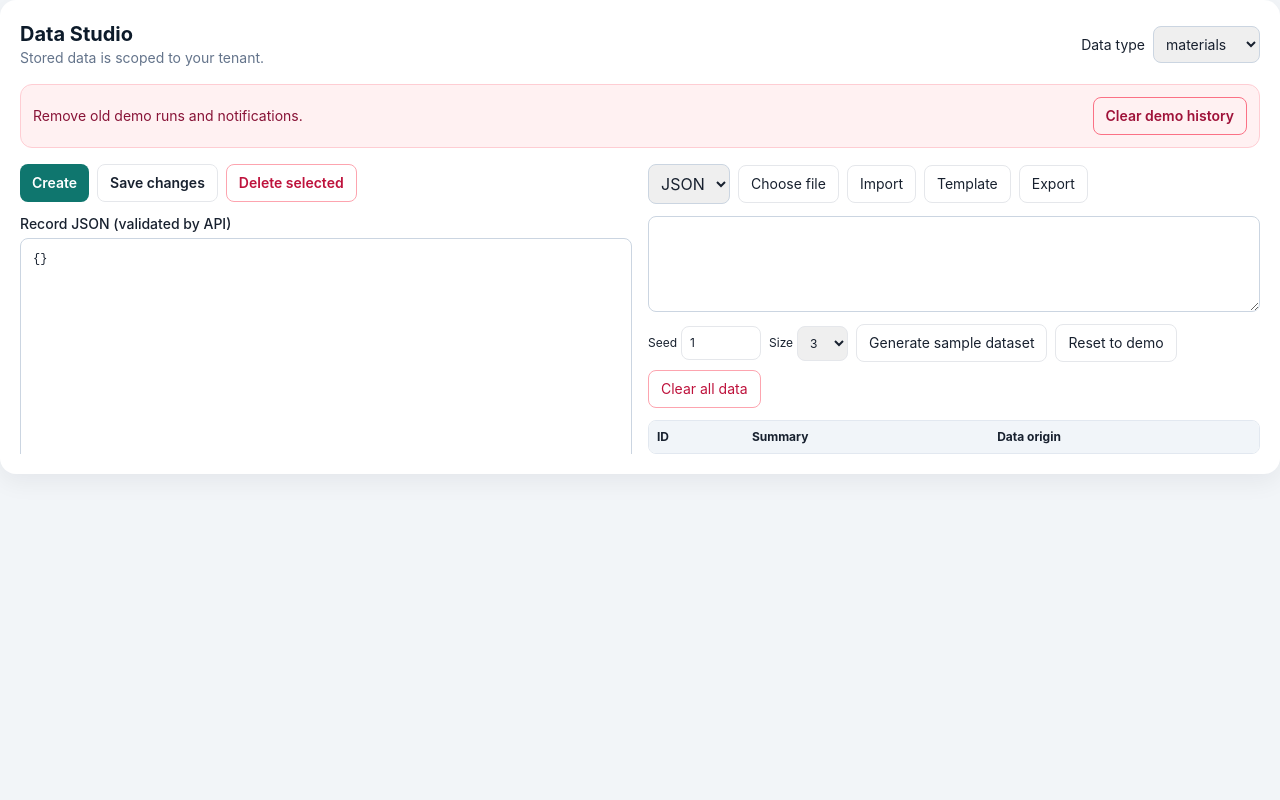
tenant Data Studio › requires confirmation before clearing the tenant's run history
What coordinates should you click on to do the following:
click the button "Clear demo history"
I would click on:
 (1170, 116)
Its box is [1092,97,1247,135].
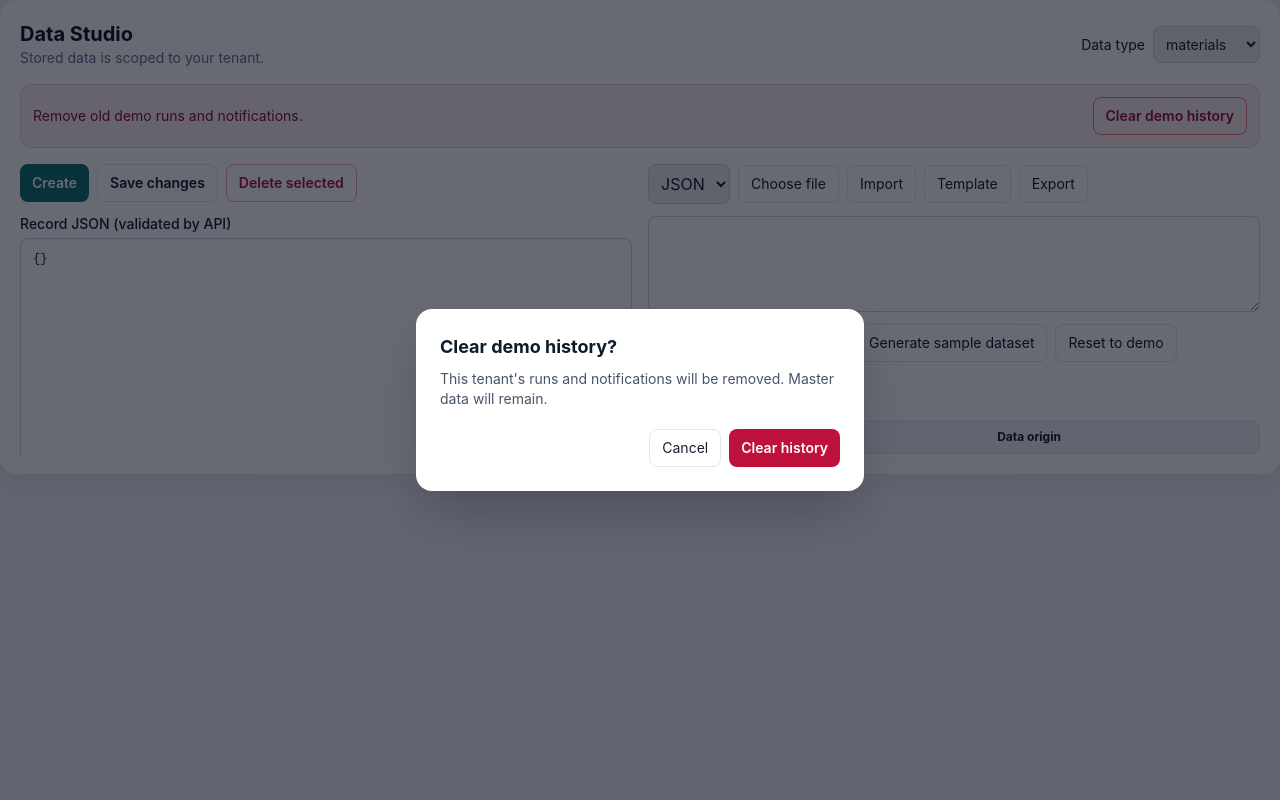
Check: the dialog is shown, box [416,309,864,491]
What coordinates should you click on to do the following:
click the button "Clear history"
I would click on:
 (785, 448)
Its box is [729,429,840,467].
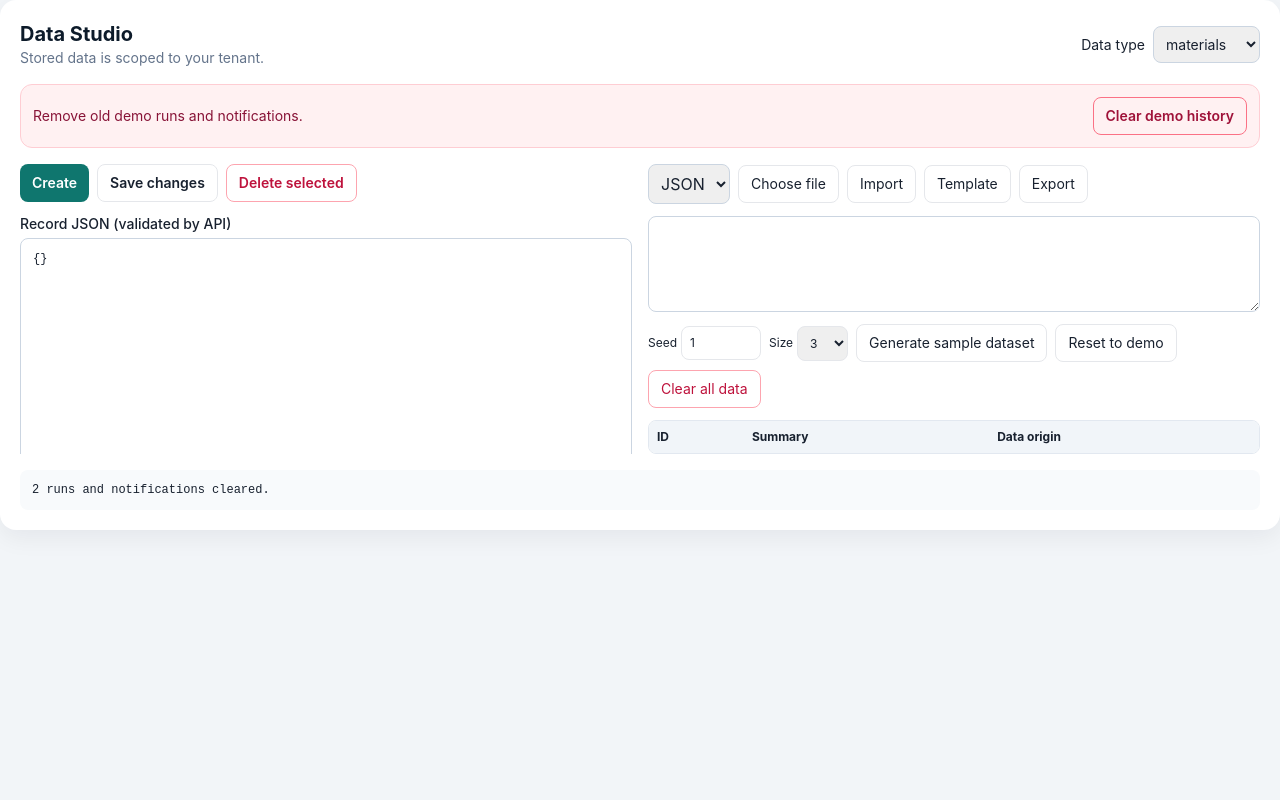
Check: the message reads "2 runs and notifications cleared.", box [32,483,270,497]
